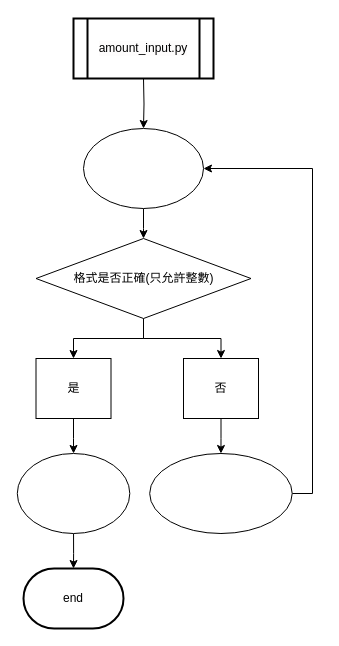
The diagram is 339 pixels wide and 646 high, and some of its shapes have lost their labels. Each missing label, with the centre of its shape:
"格式不對(重新輸入)" belongs at [220,493].
"輸入(記帳)金額" belongs at [143,168].
"輸入金額結束" belongs at [73,493].
